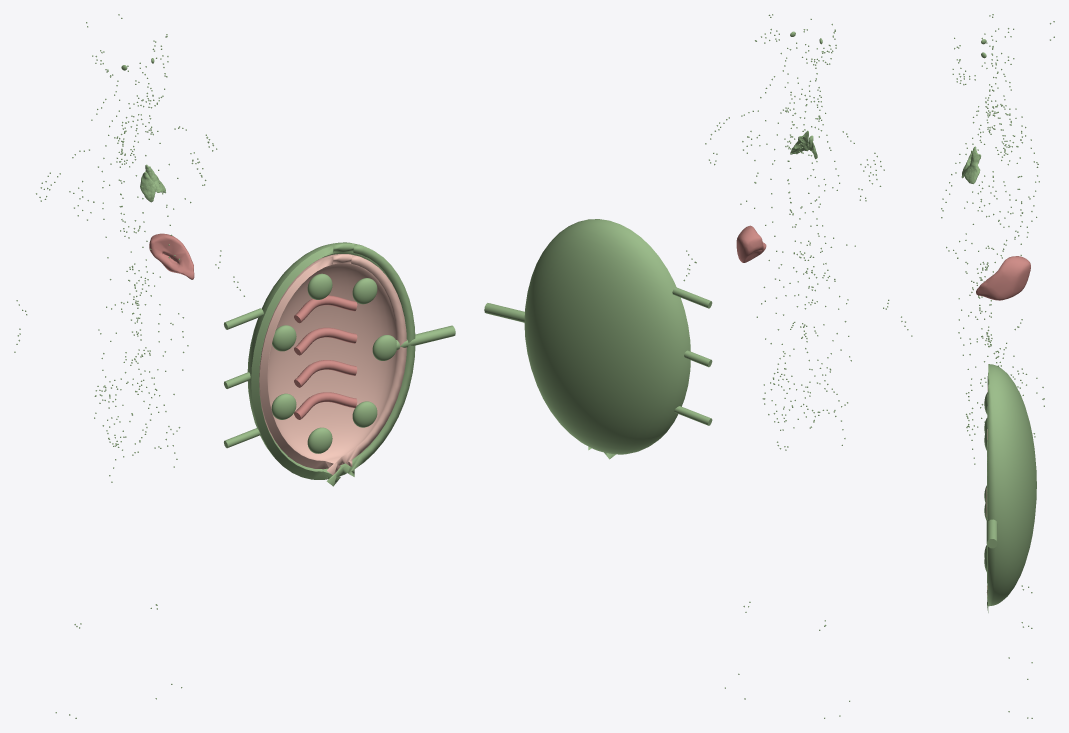
The model's file is lymphatic.7b4e71b7.glb.
The picture shows the model from 3 angles, left to right: view 1: azimuth 30°, elevation 25°; view 2: azimuth 150°, elevation 25°; view 3: azimuth 270°, elevation 25°; orthographic projection.
Parts seen in each view (by area): view 1: Node cortex, Enlarged lymph node capsule, Spleen.002, Medullary cord, Medullary cord.002, Medullary cord.001; view 2: Enlarged lymph node capsule, Spleen.002; view 3: Enlarged lymph node capsule, Spleen.002, Left lobe of thymus.001, Efferent lymphatic.
Boxes of the visible parts, left/top/right/bottom form: Node cortex: left=259, top=254, right=406, bottom=475; Enlarged lymph node capsule: left=247, top=242, right=415, bottom=486; Spleen.002: left=149, top=233, right=194, bottom=279; Medullary cord: left=294, top=392, right=357, bottom=419; Medullary cord.002: left=294, top=327, right=357, bottom=355; Medullary cord.001: left=294, top=360, right=357, bottom=387; Enlarged lymph node capsule: left=524, top=219, right=690, bottom=459; Spleen.002: left=736, top=225, right=766, bottom=262; Enlarged lymph node capsule: left=987, top=364, right=1036, bottom=612; Spleen.002: left=976, top=256, right=1030, bottom=300; Left lobe of thymus.001: left=964, top=146, right=980, bottom=183; Efferent lymphatic: left=986, top=517, right=997, bottom=548.
Bounding box in the file's own units: 2.53 × 3.8 × 0.5849.
